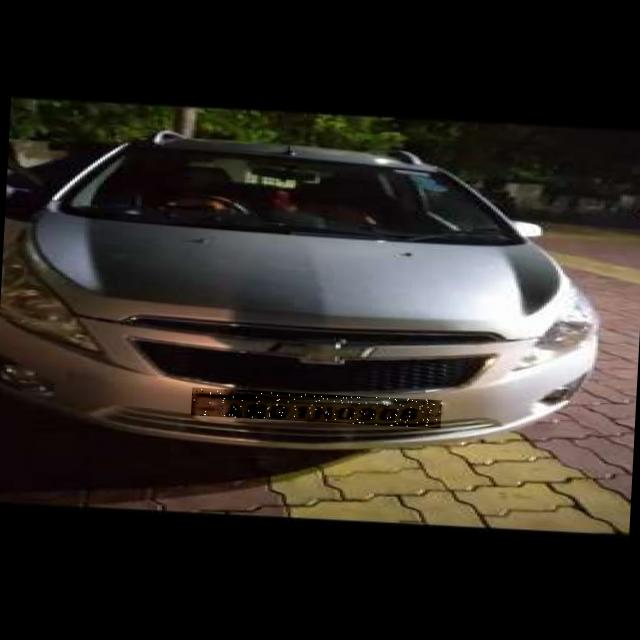Plate: (192, 389, 443, 430)
